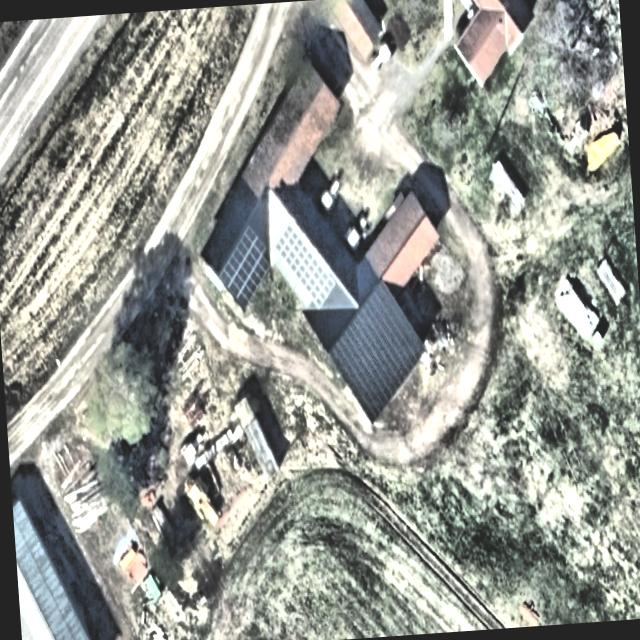roof_pv: (212, 222, 278, 313), (274, 218, 336, 312)
